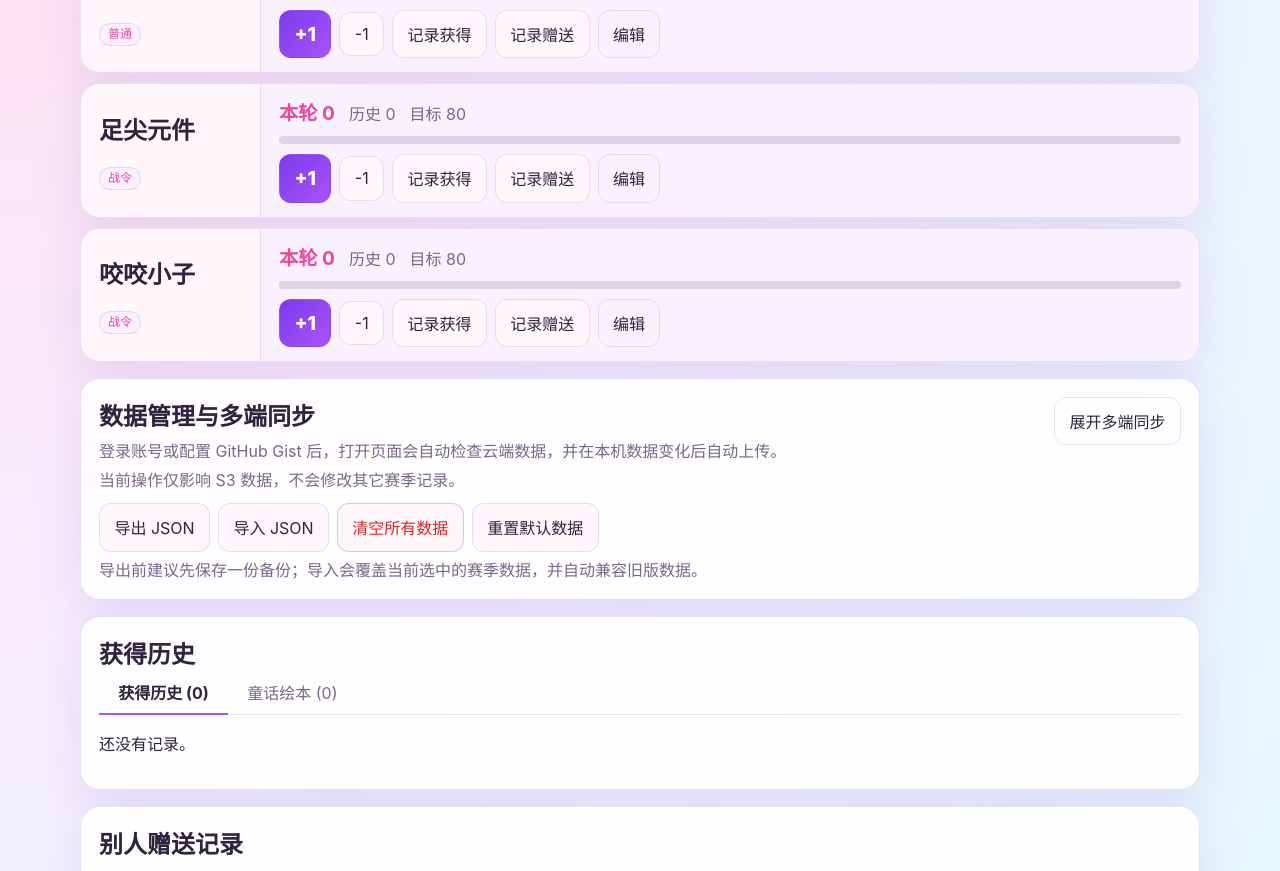
Test: App › does not automatically upload again after a manual push saves the gist id
(page scrolled)
Click the button "展开多端同步" at (1118, 421), box [1054,397,1181,445]
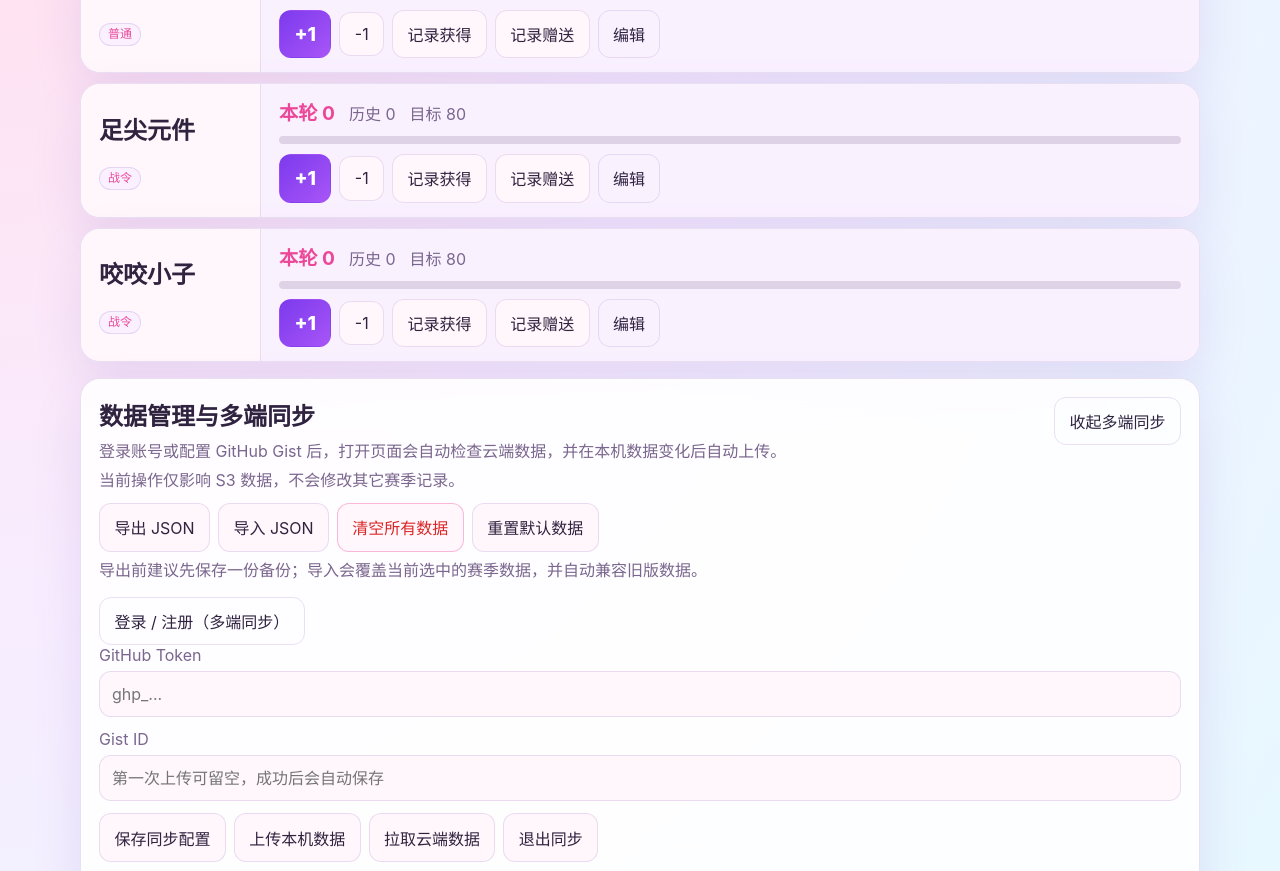
Type "token-1" into the password field labelled "GitHub Token" at (640, 694), box [99,672,1181,718]
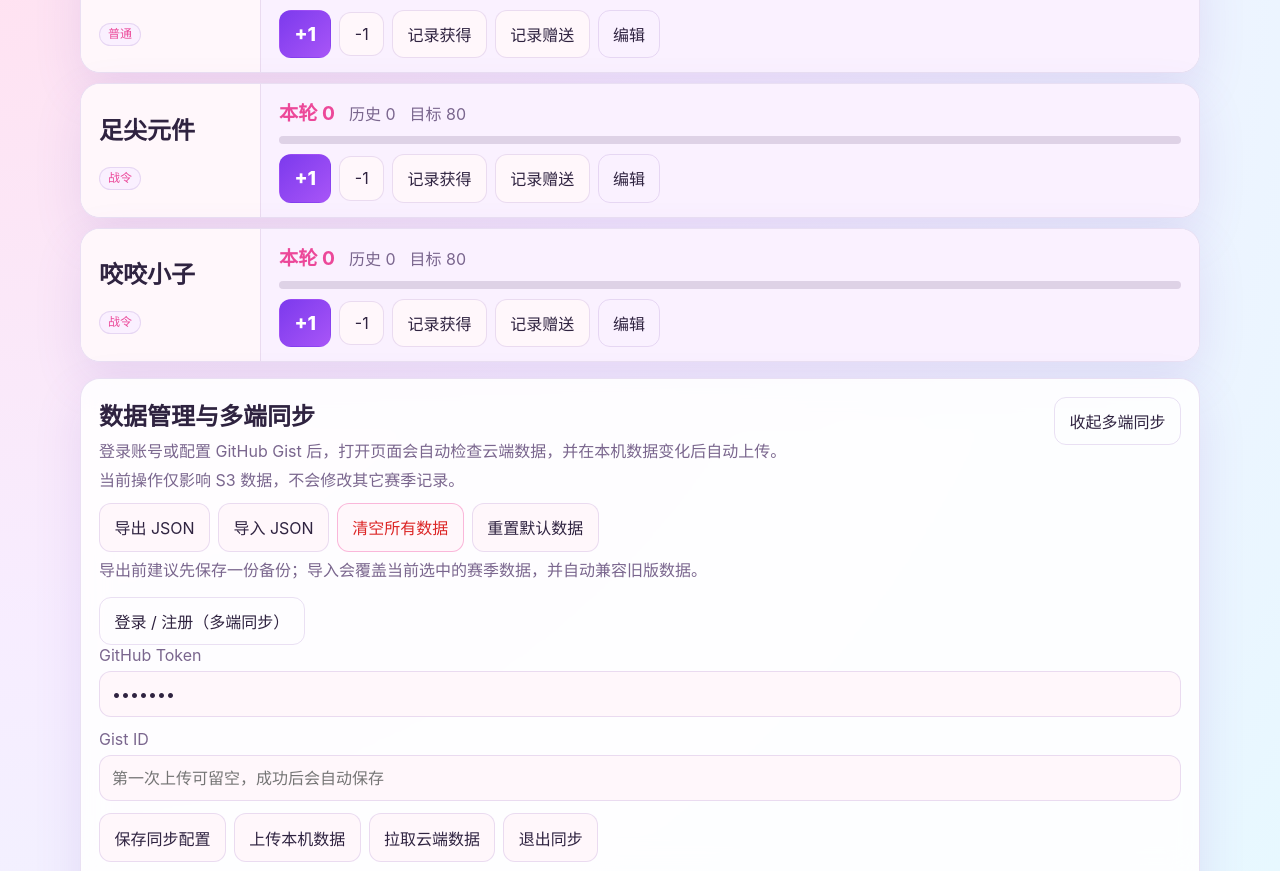
Click the button "上传本机数据" at (297, 838), box [234,814,361,862]
Wait 800 ms
(page scrolled)
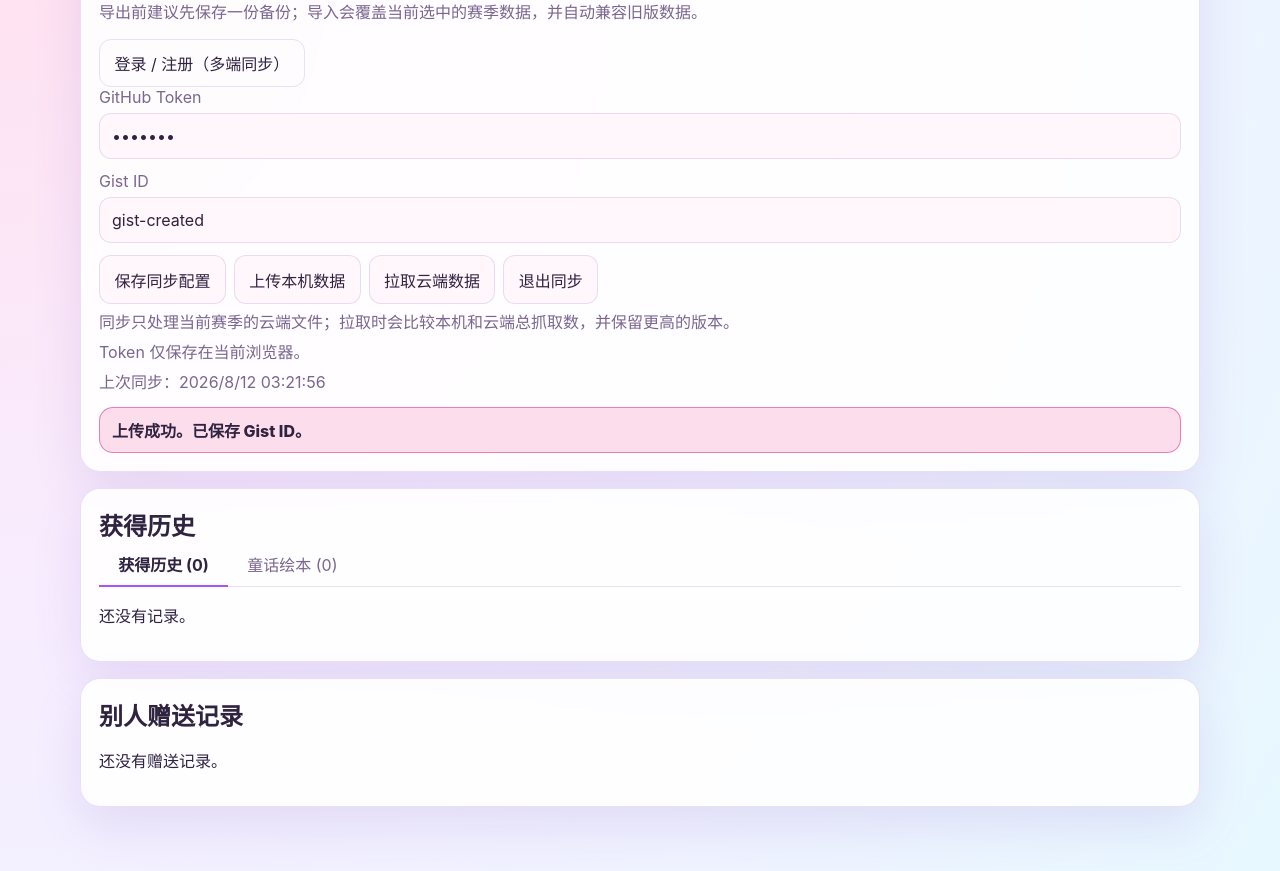
Expected: the message reads "上传成功。已保存 Gist ID。", [112,421,311,441]
